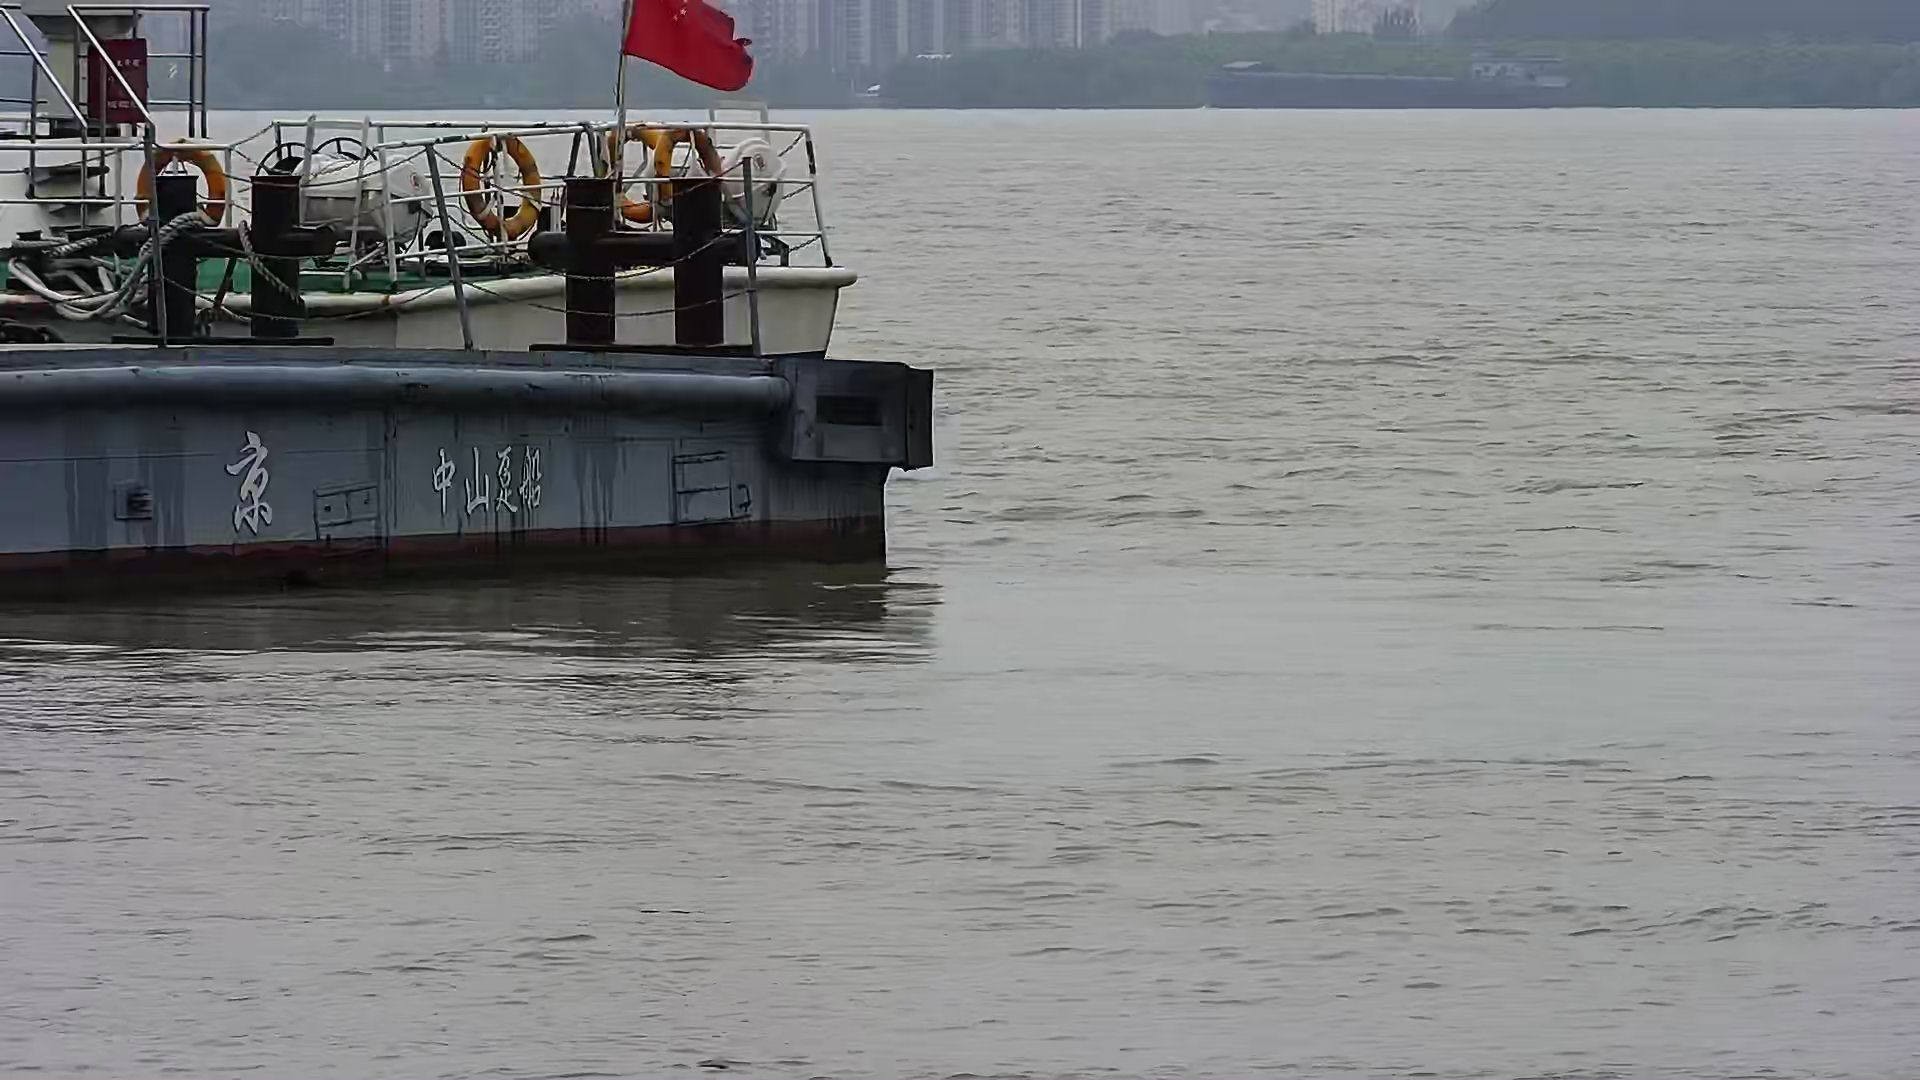ship: (1, 1, 934, 579), (1197, 44, 1569, 105)
